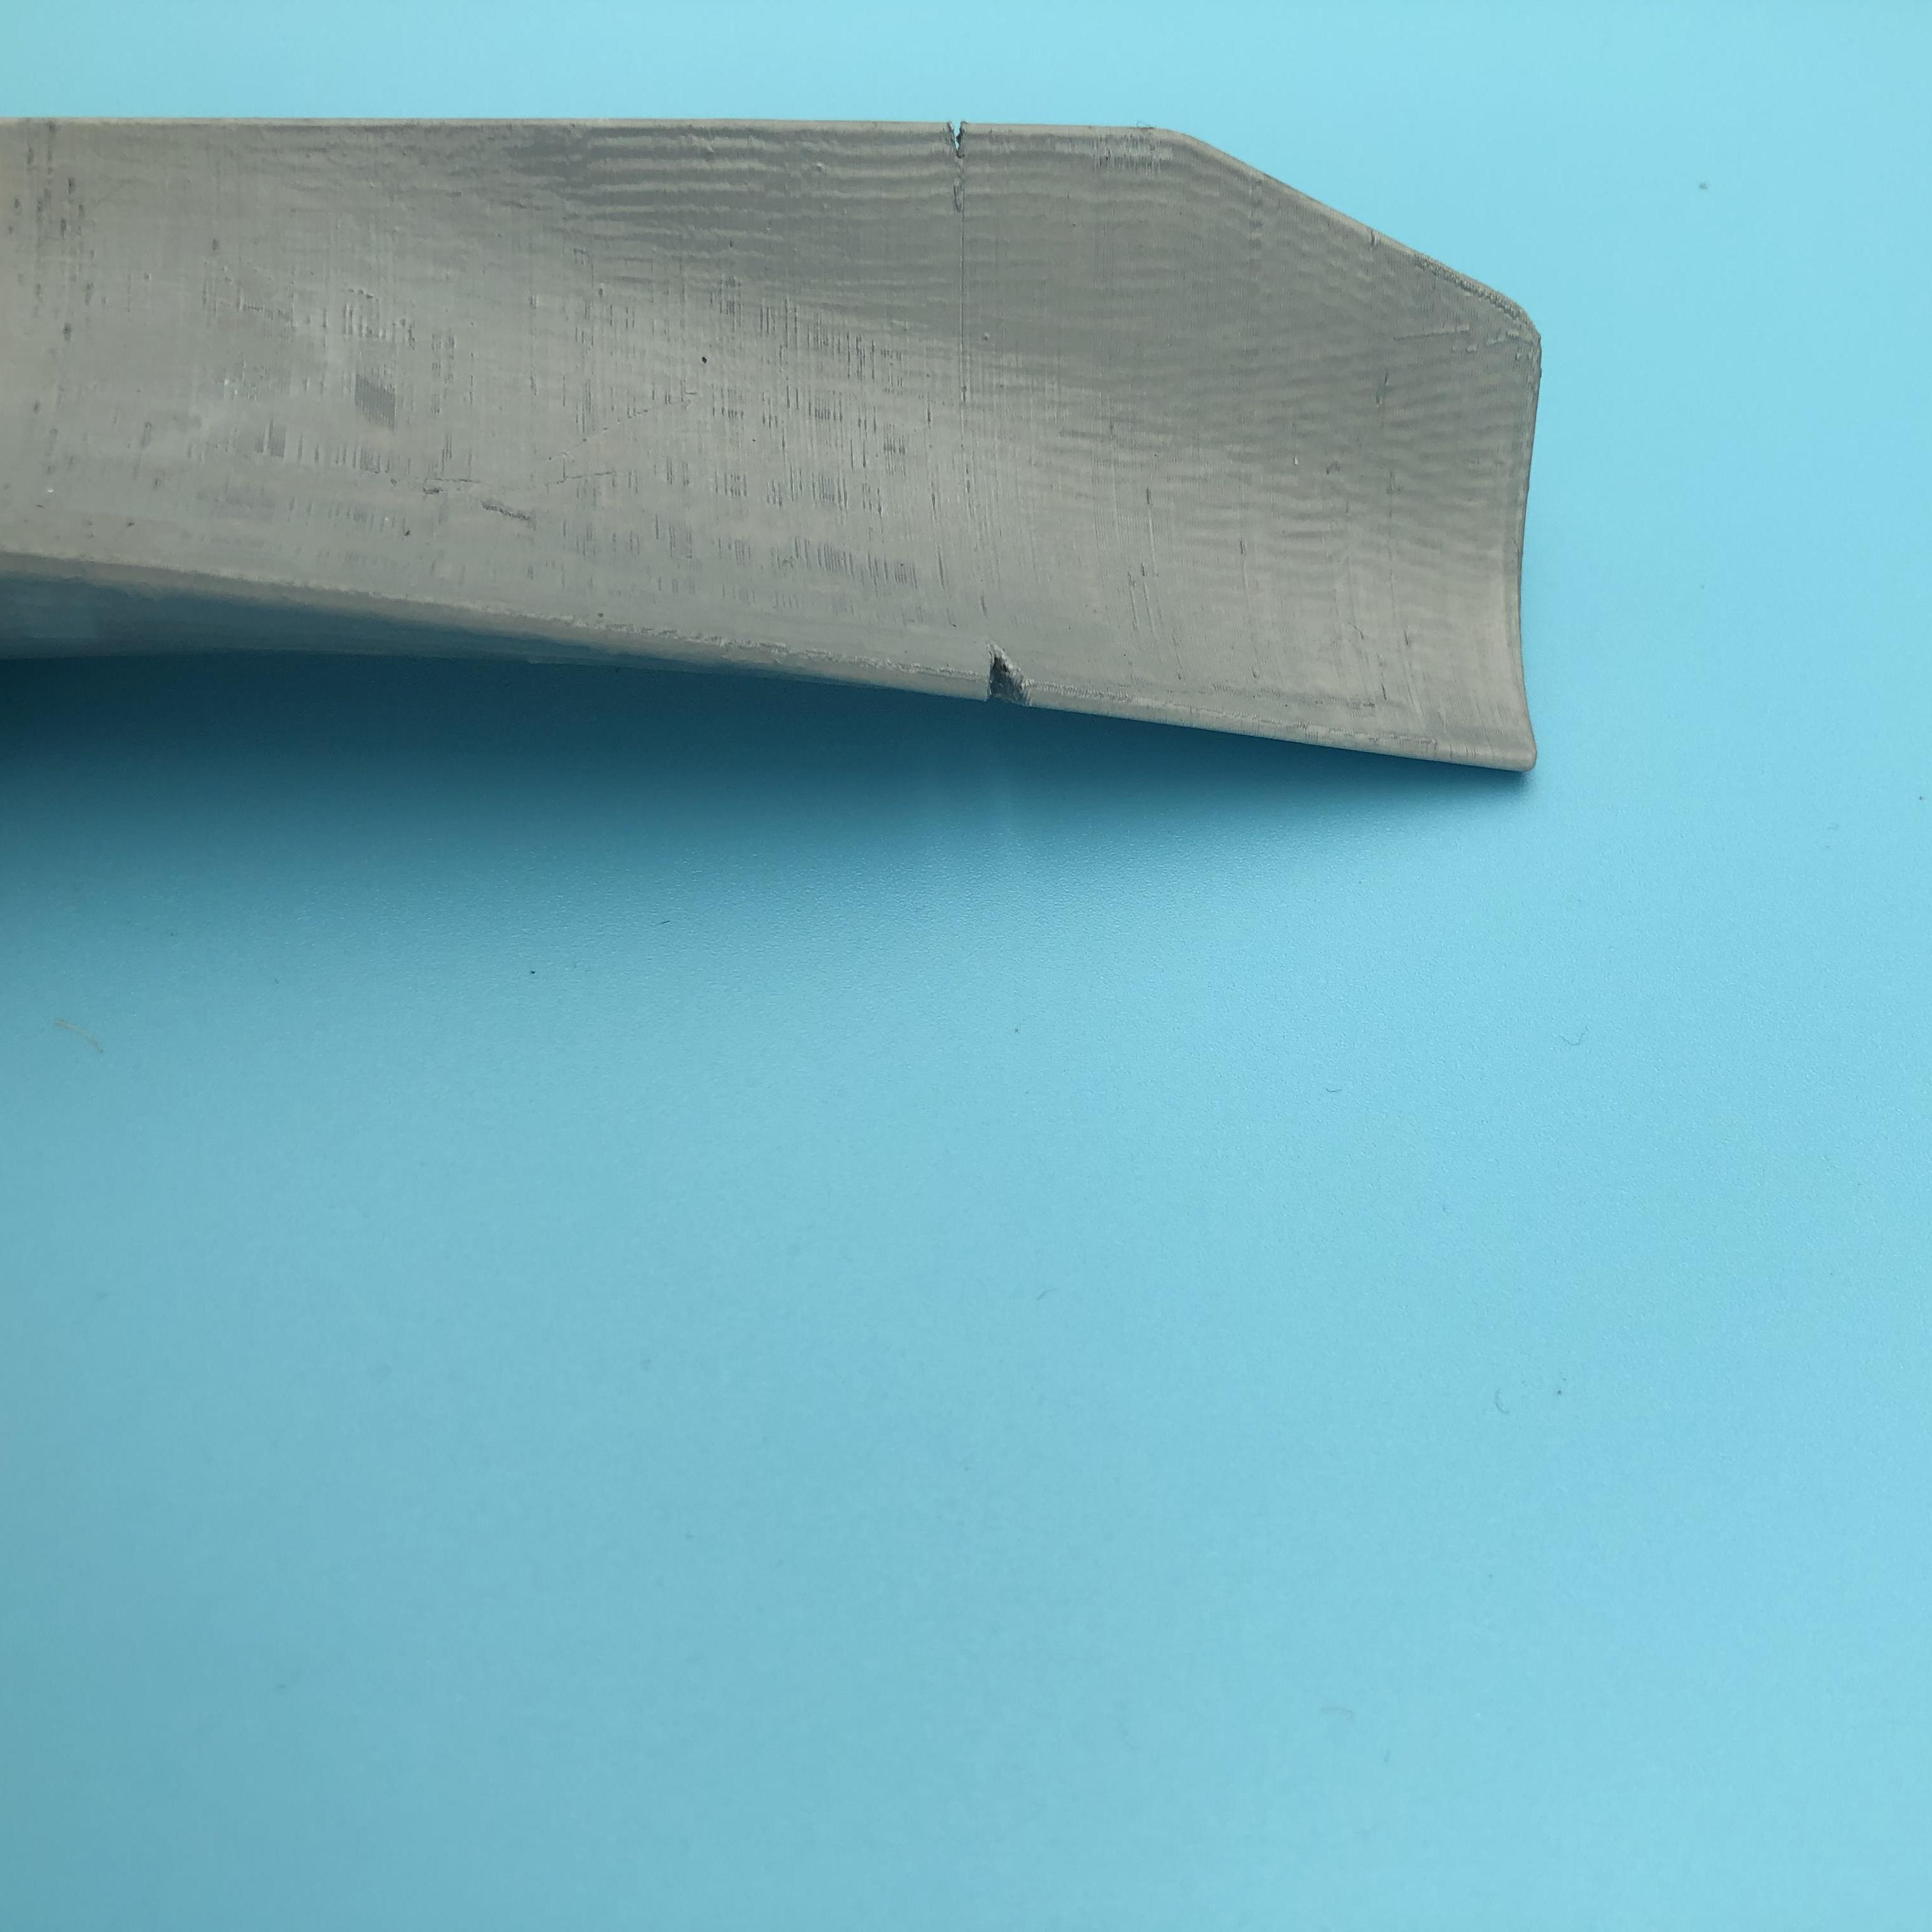groove: (975, 644, 1039, 717), (938, 126, 989, 175)
